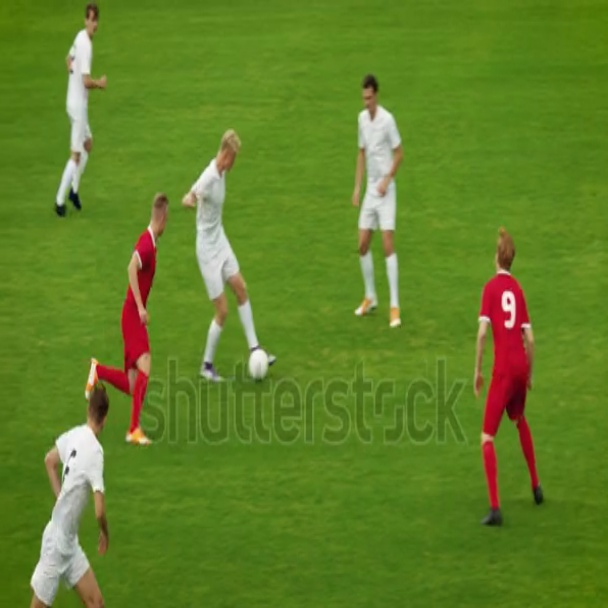ball: (244, 343, 273, 388)
